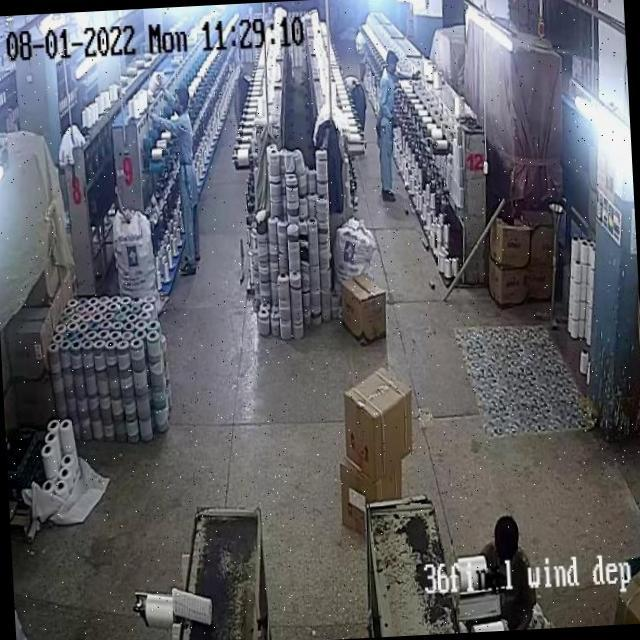person: (171, 86, 206, 270), (371, 49, 406, 204), (484, 512, 535, 606)
